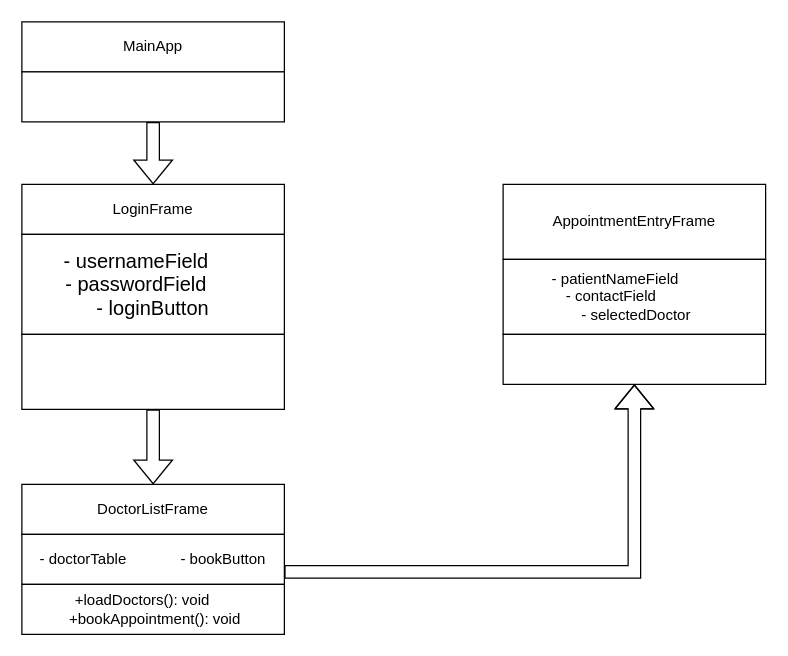
This 788x656 diagram has some shape labels left out. The shapes that lost their labels are listed below. From the top down, each one's centre as x and y in pixels, then its label:
At (152,96): "+main(String[]): void".
At (152,371): "+display(): void | | +authenticate(): void".
At (634,358): "+submitAppointment(): void".
